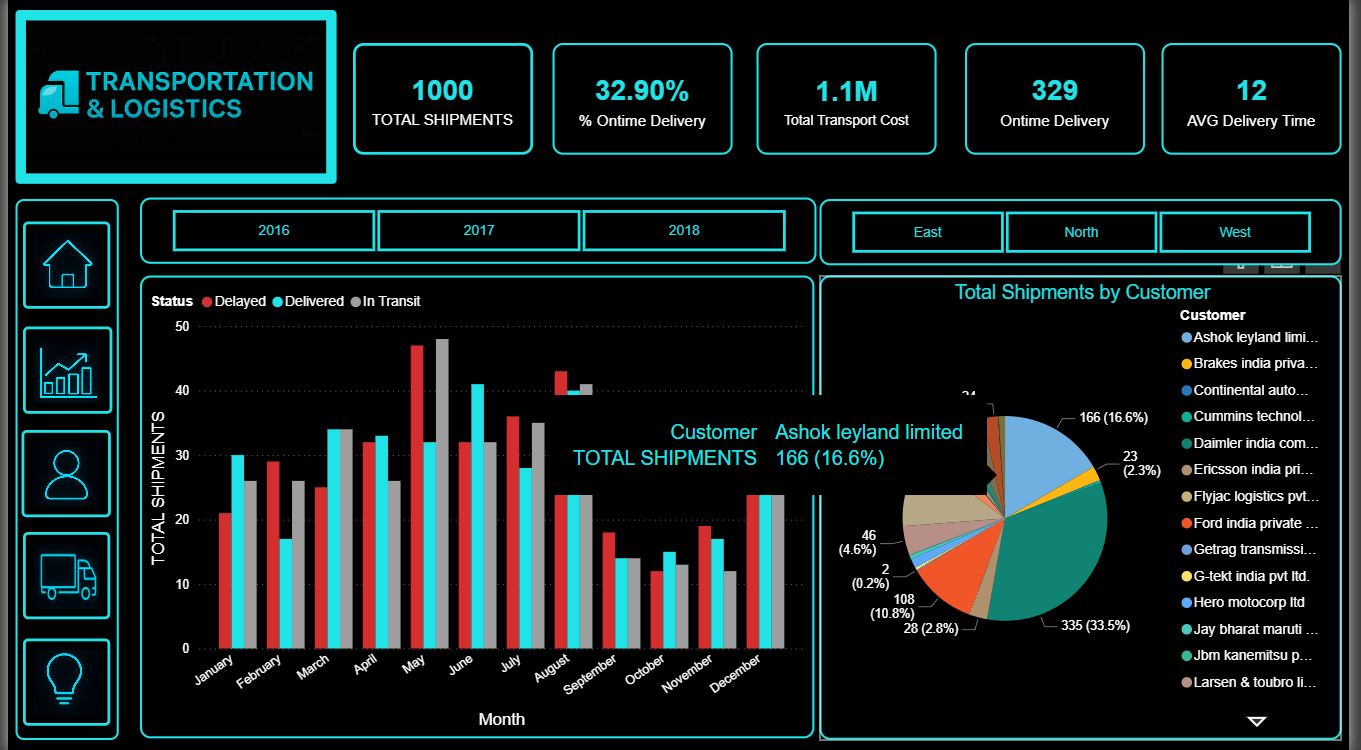

This screenshot's page, from the dashboard's own definition file:
{"tool":"powerbi","page":{"name":"OVERVIEW","canvas":[1280,720],"ordinal":1},"visuals":[{"type":"card","fields":{"Values":["MEASURE TABLE (2).TOTAL SHIPMENTS"]},"box":[330,43.3,171.7,106.7],"z":0},{"type":"card","fields":{"Values":["MEASURE TABLE (2).Ontime Delivery %"]},"box":[913.3,43.3,171.7,106.7],"z":1000},{"type":"shape","box":[6.7,191.7,98.3,516.7],"z":2000},{"type":"card","fields":{"Values":["MEASURE TABLE (2).% Ontime Delivery"]},"box":[520,43.3,171.7,106.7],"z":3000},{"type":"card","title":"Average Delivery Time","fields":{"Values":["MEASURE TABLE (2).AVG Delivery Time"]},"box":[1101.7,43.3,171.7,106.7],"z":4000},{"type":"card","fields":{"Values":["MEASURE TABLE (2).Total Transport Cost"]},"box":[715,43.3,171.7,106.7],"z":5000},{"type":"clusteredColumnChart","fields":{"Category":["Date Table.Date.Variation.Date Hierarchy.Month"],"Y":["MEASURE TABLE (2).TOTAL SHIPMENTS"],"Series":["Shipments.Status"]},"box":[125.7,265.6,644.2,442.2],"z":6000},{"type":"pieChart","title":"Total Shipments by Customer","fields":{"Category":["Orders.Customer"],"Y":["MEASURE TABLE (2).TOTAL SHIPMENTS"]},"box":[775,265,498.3,443.3],"z":7000},{"type":"slicer","fields":{"Values":["/Warehouses.Region"]},"box":[775,191.7,498.3,63.3],"z":8000},{"type":"image","box":[6.7,11.7,306.7,166],"z":9000,"group":"g1"},{"type":"slicer","fields":{"Values":["Vehicles.LastMaintenance.Variation.Date Hierarchy.Year"]},"box":[125.7,190.9,645.8,63.6],"z":9000},{"type":"image","box":[15,213.3,83.3,83.3],"z":10000},{"type":"image","box":[15,15,286.7,150],"z":11000,"group":"g1"},{"type":"image","box":[13.8,313.6,85,83.3],"z":11000},{"type":"image","box":[13.3,413.2,85,83.3],"z":12000},{"type":"image","box":[15,611.7,83.3,83.3],"z":13000},{"type":"image","box":[15,510,83.3,83.3],"z":14000},{"type":"group","id":"g1","title":"Group 1","box":[6.7,11.7,306.7,166],"z":15000}]}

Visuals, with their boxes in screenshot pixels (x1, y1, x2, y2), scaled from the page's 1280x720 canvas onto the 1361x750 screenshot:
card - MEASURE TABLE (2).TOTAL SHIPMENTS: <bbox>351, 45, 533, 156</bbox>
card - MEASURE TABLE (2).Ontime Delivery %: <bbox>971, 45, 1154, 156</bbox>
shape: <bbox>7, 200, 112, 738</bbox>
card - MEASURE TABLE (2).% Ontime Delivery: <bbox>553, 45, 735, 156</bbox>
"Average Delivery Time" card: <bbox>1171, 45, 1354, 156</bbox>
card - MEASURE TABLE (2).Total Transport Cost: <bbox>760, 45, 943, 156</bbox>
clusteredColumnChart - Date Table.Date.Variation.Date Hierarchy.Month x MEASURE TABLE (2).TOTAL SHIPMENTS: <bbox>134, 277, 819, 737</bbox>
"Total Shipments by Customer" pieChart: <bbox>824, 276, 1354, 738</bbox>
slicer - /Warehouses.Region: <bbox>824, 200, 1354, 266</bbox>
image: <bbox>7, 12, 333, 185</bbox>
slicer - Vehicles.LastMaintenance.Variation.Date Hierarchy.Year: <bbox>134, 199, 820, 265</bbox>
image: <bbox>16, 222, 105, 309</bbox>
image: <bbox>16, 16, 321, 172</bbox>
image: <bbox>15, 327, 105, 413</bbox>
image: <bbox>14, 430, 105, 517</bbox>
image: <bbox>16, 637, 105, 724</bbox>
image: <bbox>16, 531, 105, 618</bbox>
"Group 1" group: <bbox>7, 12, 333, 185</bbox>
